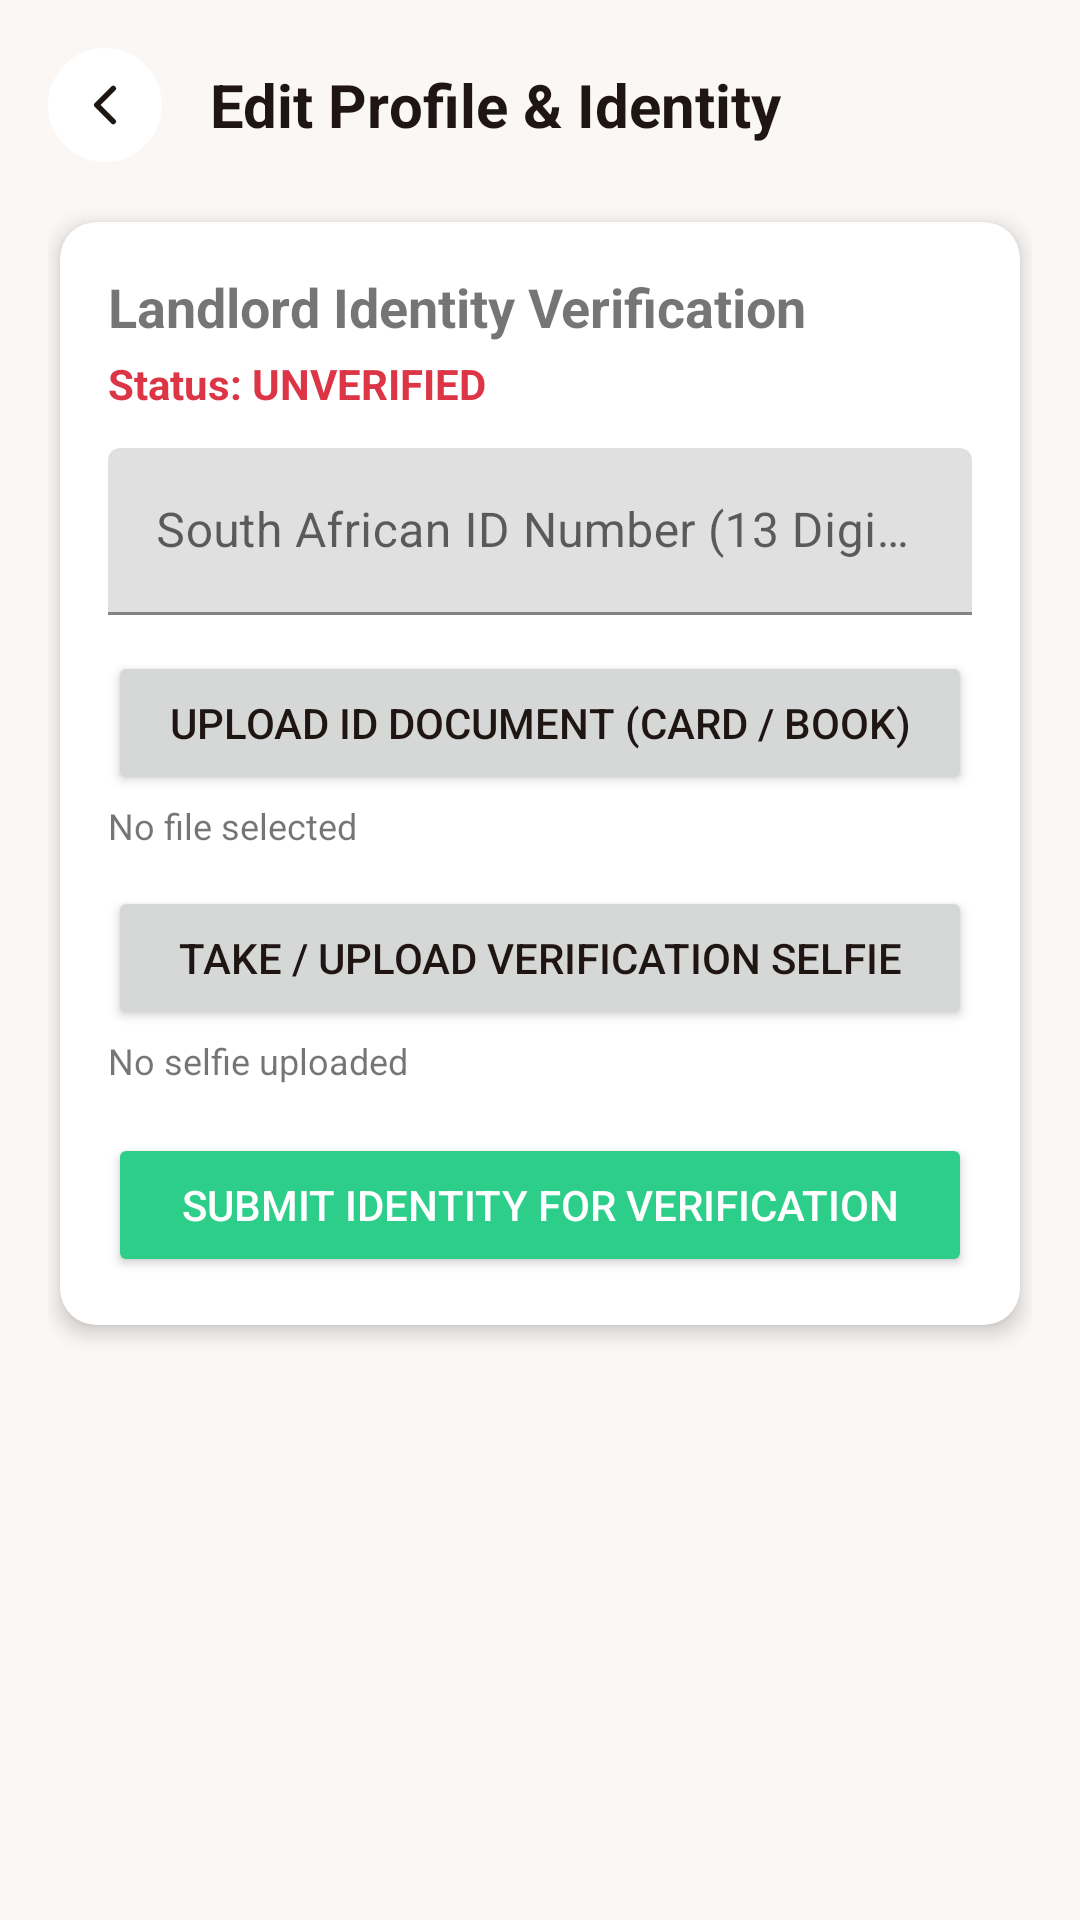

Icon bounding boxes for this 1080×1920 phone screenshot, format [left=x1, top=y1, right=x2, bottom=y2]:
Navigate Back: [left=48, top=48, right=162, bottom=162]
